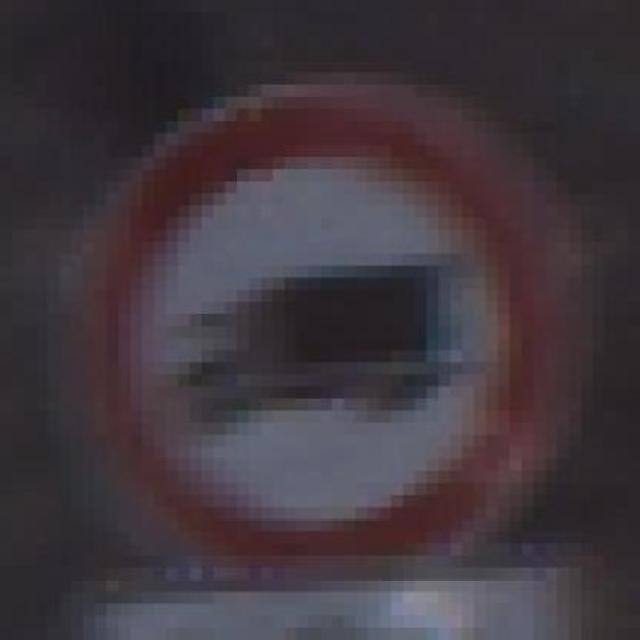Truck traffic is prohibited: (59, 48, 593, 568)
